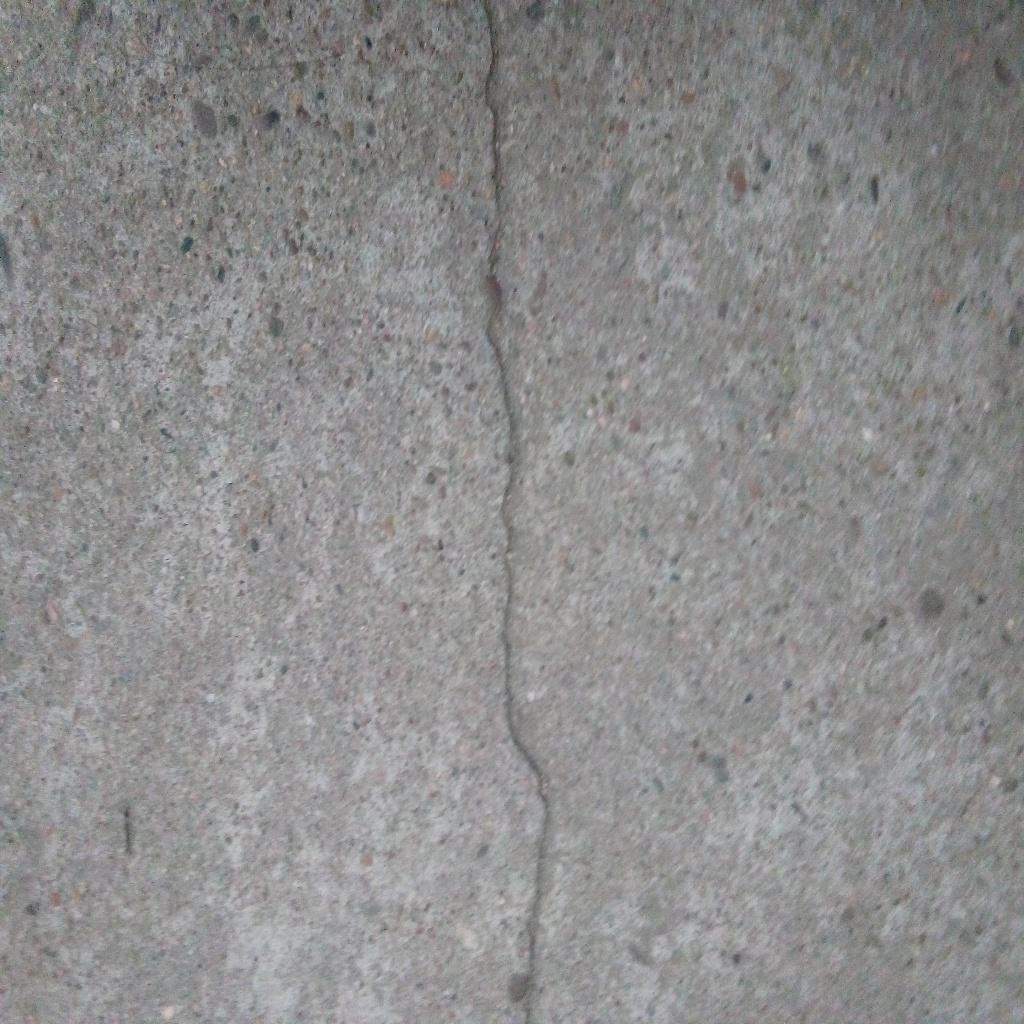Crack: (482, 1, 552, 1024)
